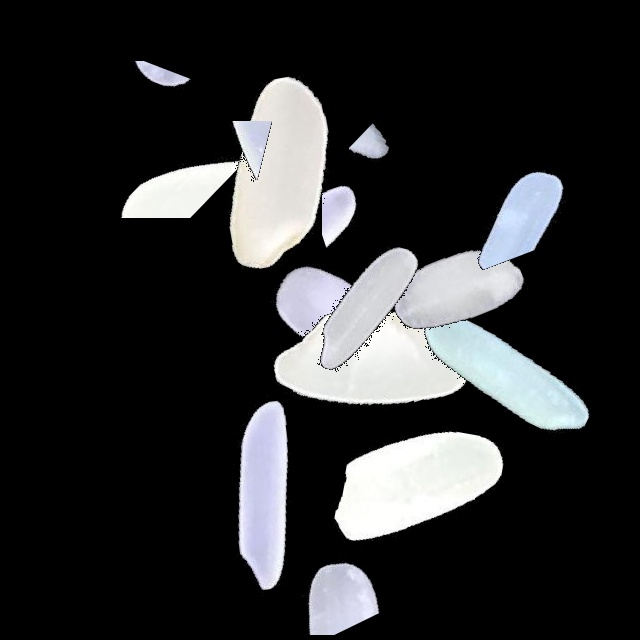Broken: (432, 61, 574, 311), (193, 497, 443, 635), (41, 112, 291, 218), (78, 121, 328, 227), (349, 40, 436, 290), (13, 61, 263, 147), (322, 103, 399, 353)
Full: (208, 192, 458, 442), (246, 234, 496, 484), (140, 369, 390, 619), (379, 247, 629, 497), (153, 48, 403, 298), (333, 164, 583, 414), (293, 362, 543, 612), (244, 183, 494, 433)
